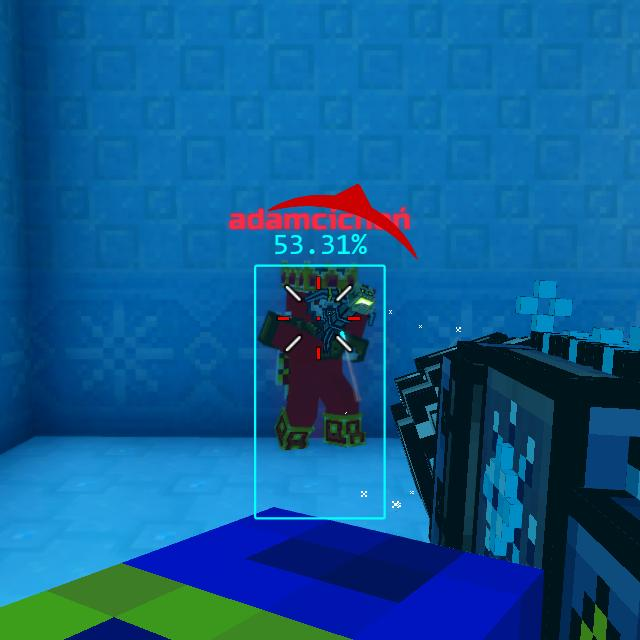Enemy: (258, 260, 370, 450)
